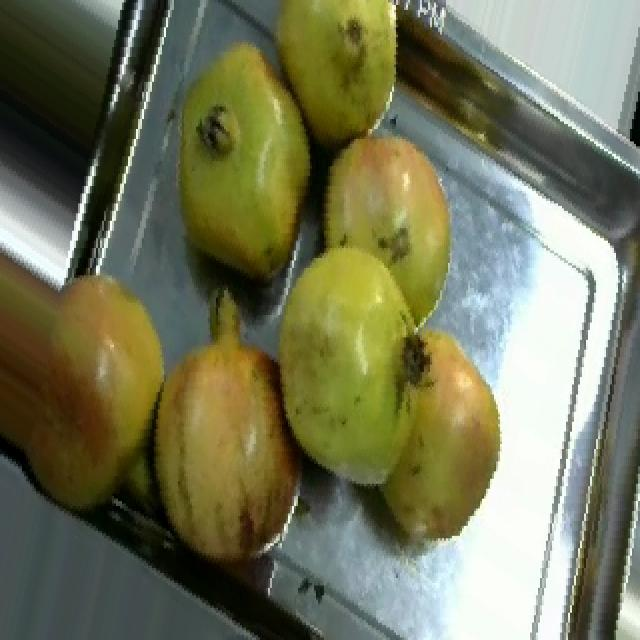fruit: (94, 320, 336, 598), (0, 233, 200, 499), (236, 0, 428, 166)
